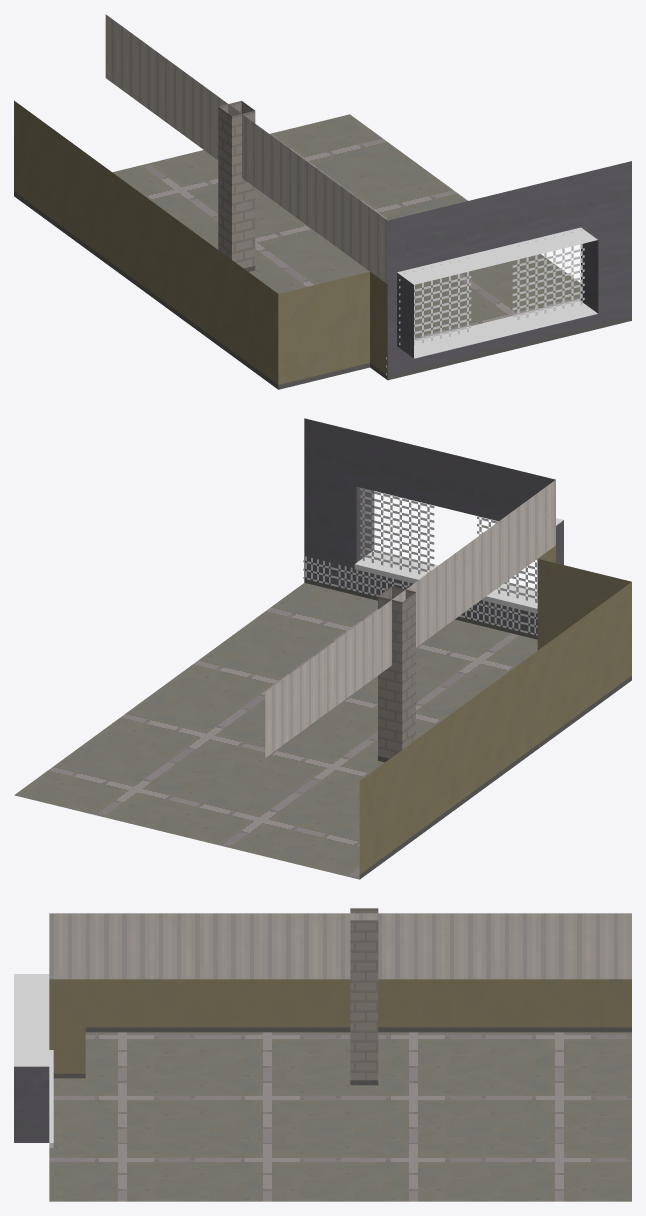
Rendered from queue.fbx.
The picture shows the model from 3 angles, top to bottom: view 1: azimuth 30°, elevation 25°; view 2: azimuth 150°, elevation 25°; view 3: azimuth 270°, elevation 25°; orthographic projection. The views are drawn at different scales.
Visible parts, largest first — view 1: Plane; view 2: Plane; view 3: Plane.
Boxes of the visible parts, x1=… form: Plane: x1=14, y1=14, x2=631, y2=389; Plane: x1=14, y1=418, x2=631, y2=879; Plane: x1=14, y1=908, x2=631, y2=1201.
Bounding box in the file's own units: 1101 × 500 × 1697.
